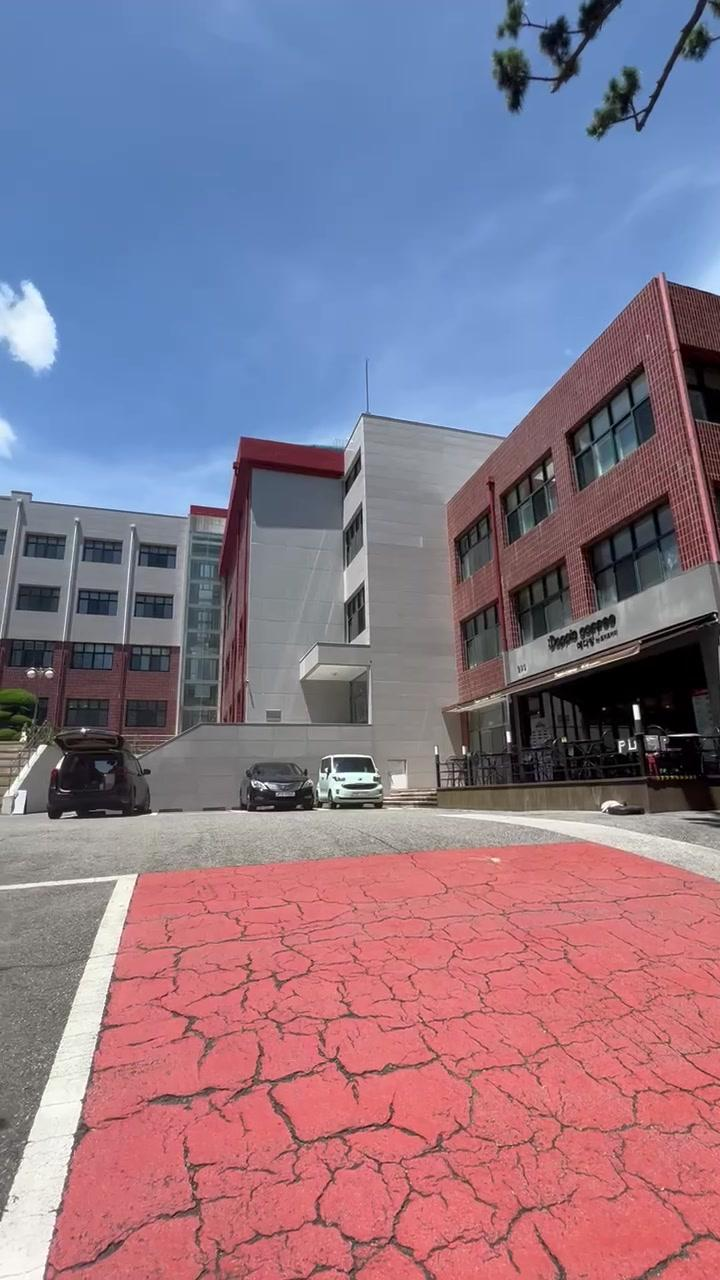building: (2, 340, 720, 748)
